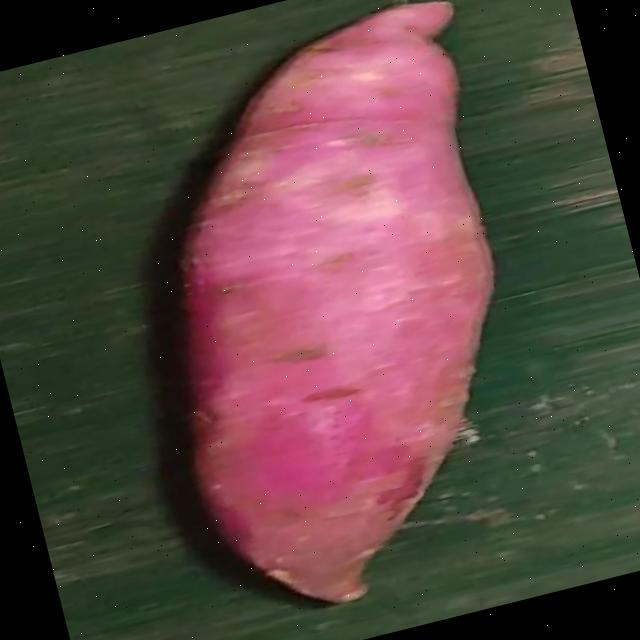Sweet Potato: (180, 0, 498, 604)
